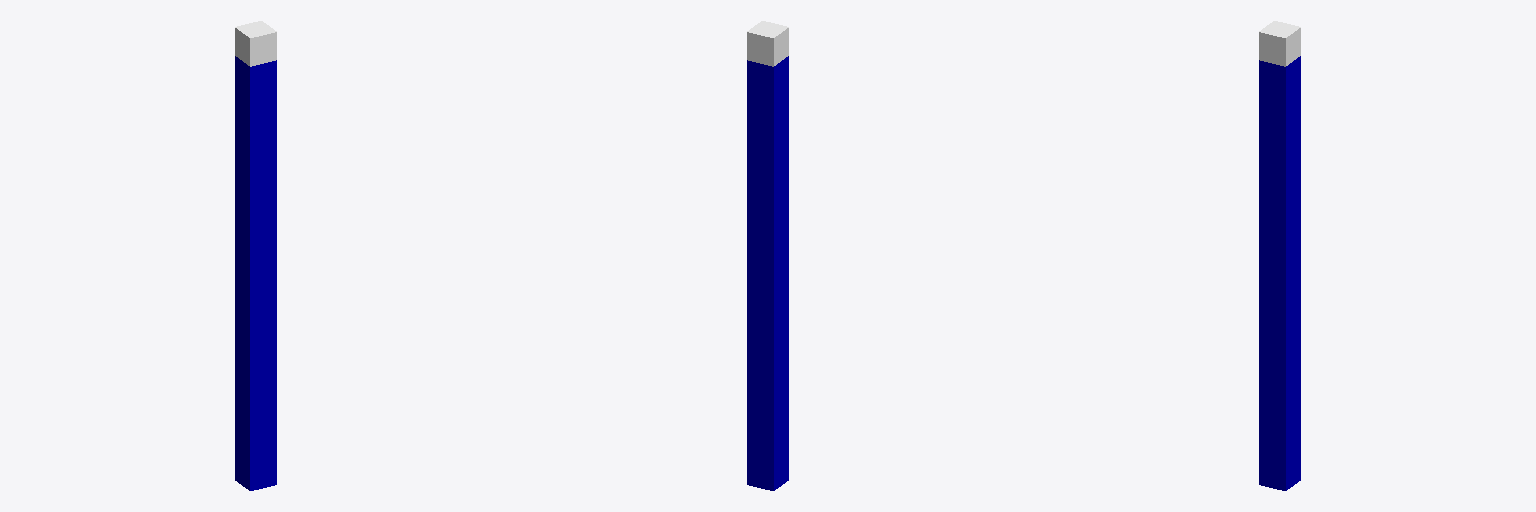
URDF robot description (pcl_ros_cluster_segmentation):
<?xml version="1.0" ?>
<!-- =================================================================================== -->
<!-- |    This document was autogenerated by xacro from obj_recognition.urdf.xacro     | -->
<!-- |    EDITING THIS FILE BY HAND IS NOT RECOMMENDED                                 | -->
<!-- =================================================================================== -->
<robot name="pcl_ros_cluster_segmentation" xmlns:xacro="http://www.ros.org/wiki/xacro">
  <!-- ros_control plugin -->
  <gazebo>
    <plugin filename="libgazebo_ros_control.so" name="gazebo_ros_control">
      <robotNamespace>/pcl_ros_cluster_segmentation</robotNamespace>
      <robotSimType>gazebo_ros_control/DefaultRobotHWSim</robotSimType>
    </plugin>
  </gazebo>
  <!--base_link-->
  <gazebo reference="base_link">
    <material>Gazebo/White</material>
  </gazebo>
  <!--link_1-->
  <gazebo reference="link_1">
    <mu1>0.2</mu1>
    <mu2>0.2</mu2>
    <material>Gazebo/Orange</material>
  </gazebo>
  <!--link_2-->
  <gazebo reference="link_2">
    <mu1>0.2</mu1>
    <mu2>0.2</mu2>
    <material>Gazebo/White</material>
  </gazebo>
  <!--camera_link-->
  <gazebo reference="camera_link">
    <mu1>0.2</mu1>
    <mu2>0.2</mu2>
    <material>Gazebo/Grey</material>
  </gazebo>
  <!--RGBD camera -->
  <gazebo reference="camera_rgb_frame">
    <sensor name="camera" type="depth">
      <always_on>true</always_on>
      <visualize>false</visualize>
      <update_rate>15.0</update_rate>
      <camera name="front">
        <horizontal_fov>1.047197</horizontal_fov>
        <image>
          <!-- openni_kinect plugin works only with BGR8 -->
          <format>B8G8R8</format>
          <width>640</width>
          <height>480</height>
        </image>
        <clip>
          <near>0.01</near>
          <far>9</far>
        </clip>
      </camera>
      <plugin filename="libgazebo_ros_openni_kinect.so" name="camera_controller">
        <baseline>0.1</baseline>
        <alwaysOn>true</alwaysOn>
        <updateRate>15.0</updateRate>
        <cameraName>camera</cameraName>
        <imageTopicName>/camera/rgb/image_raw</imageTopicName>
        <cameraInfoTopicName>/camera/rgb/camera_info</cameraInfoTopicName>
        <depthImageTopicName>/camera/depth_registered/image_raw</depthImageTopicName>
        <depthImageCameraInfoTopicName>/camera/depth_registered/camera_info</depthImageCameraInfoTopicName>
        <pointCloudTopicName>/camera/depth_registered/points</pointCloudTopicName>
        <frameName>camera_rgb_optical_frame</frameName>
        <pointCloudCutoff>0.35</pointCloudCutoff>
        <pointCloudCutoffMax>4.5</pointCloudCutoffMax>
        <CxPrime>0</CxPrime>
        <Cx>0</Cx>
        <Cy>0</Cy>
        <focalLength>0</focalLength>
        <hackBaseline>0</hackBaseline>
      </plugin>
    </sensor>
  </gazebo>
  <!--Links-->
  <link name="world"/>
  <link name="link_1">
    <visual>
      <origin rpy="0 0 0" xyz="0 0 0"/>
      <geometry>
        <box size="0.1 0.1 1.5"/>
      </geometry>
      <material name="blue">
        <color rgba="0.0 0.0 0.8 1.0"/>
      </material>
    </visual>
    <collision>
      <origin rpy="0 0 0" xyz="0 0 0"/>
      <geometry>
        <box size="0.1 0.1 1.5"/>
      </geometry>
    </collision>
    <inertial>
      <origin rpy="0 0 0" xyz="0 0 0"/>
      <mass value="10"/>
      <inertia ixx="1.88333333333" ixy="0.0" ixz="0.0" iyy="1.88333333333" iyz="0.0" izz="0.0166666666667"/>
    </inertial>
  </link>
  <link name="link_2">
    <visual>
      <origin rpy="0 0 0" xyz="0 0 0"/>
      <geometry>
        <box size="0.1 0.1 0.1"/>
      </geometry>
      <material name="white">
        <color rgba="1.0 1.0 1.0 1.0"/>
      </material>
    </visual>
    <collision>
      <origin rpy="0 0 0" xyz="0 0 0"/>
      <geometry>
        <box size="0.1 0.1 0.1"/>
      </geometry>
    </collision>
    <inertial>
      <origin rpy="0 0 0" xyz="0 0 0"/>
      <mass value="1"/>
      <inertia ixx="0.00166666666667" ixy="0.0" ixz="0.0" iyy="0.00166666666667" iyz="0.0" izz="0.00166666666667"/>
    </inertial>
  </link>
  <!-- RGBD camera -->
  <link name="camera_link">
    <collision>
      <origin rpy="0 0 0" xyz="-0.016 0 0"/>
      <geometry>
        <box size="0.036 0.18 0.04"/>
      </geometry>
    </collision>
    <visual>
      <origin rpy="0 0 0" xyz="0 0 0"/>
      <geometry>
        <mesh filename="[local-path]/manipulator_ws/src/pcl_ros_cluster_segmentation/meshes/asus_xtion.dae"/>
      </geometry>
    </visual>
    <inertial>
      <mass value="0.2"/>
      <origin rpy="0 0 0" xyz="0 0 0"/>
      <inertia ixx="5.8083e-4" ixy="0" ixz="0" iyy="3.0833e-5" iyz="0" izz="5.9083e-4"/>
    </inertial>
  </link>
  <!--Joints-->
  <joint name="fixed_base_joint" type="fixed">
    <parent link="world"/>
    <child link="link_1"/>
    <origin rpy="0 0 0" xyz="0 0 0.75"/>
  </joint>
  <joint name="pan_joint" type="continuous">
    <parent link="link_1"/>
    <child link="link_2"/>
    <axis xyz="0 0 1"/>
    <origin rpy="0 0 -1.57079632679" xyz="0 0 0.8"/>
  </joint>
  <joint name="tilt_joint" type="continuous">
    <origin rpy="0 0.5 0" xyz="0.05 0 0.07"/>
    <parent link="link_2"/>
    <child link="camera_link"/>
    <axis xyz="0 1 0"/>
  </joint>
  <link name="camera_rgb_frame"/>
  <joint name="camera_rgb_joint" type="fixed">
    <origin rpy="0 0 0" xyz="0 0.022 0"/>
    <parent link="camera_link"/>
    <child link="camera_rgb_frame"/>
  </joint>
  <link name="camera_rgb_optical_frame"/>
  <joint name="camera_rgb_optical_joint" type="fixed">
    <origin rpy="-1.57079632679 0 -1.57079632679" xyz="0 0 0"/>
    <parent link="camera_rgb_frame"/>
    <child link="camera_rgb_optical_frame"/>
  </joint>
  <link name="camera_depth_frame"/>
  <joint name="camera_depth_joint" type="fixed">
    <origin rpy="0 0 0" xyz="0 0.049 0"/>
    <parent link="camera_link"/>
    <child link="camera_depth_frame"/>
  </joint>
  <link name="camera_depth_optical_frame"/>
  <joint name="camera_depth_optical_joint" type="fixed">
    <origin rpy="-1.57079632679 0 -1.57079632679" xyz="0 0 0"/>
    <parent link="camera_depth_frame"/>
    <child link="camera_depth_optical_frame"/>
  </joint>
  <!--Transmission and actuators-->
  <transmission name="tran1">
    <type>transmission_interface/SimpleTransmission</type>
    <joint name="pan_joint">
      <hardwareInterface>hardware_interface/PositionJointInterface</hardwareInterface>
    </joint>
    <actuator name="motor1">
      <hardwareInterface>hardware_interface/PositionJointInterface</hardwareInterface>
      <mechanicalReduction>1</mechanicalReduction>
    </actuator>
  </transmission>
  <transmission name="tran2">
    <type>transmission_interface/SimpleTransmission</type>
    <joint name="tilt_joint">
      <hardwareInterface>hardware_interface/PositionJointInterface</hardwareInterface>
    </joint>
    <actuator name="motor2">
      <hardwareInterface>hardware_interface/PositionJointInterface</hardwareInterface>
      <mechanicalReduction>1</mechanicalReduction>
    </actuator>
  </transmission>
</robot>

--- Facts derived from the render (not from the file) ---
Views: 3 orthographic renders of the robot side by side, from view 1: azimuth 30°, elevation 25°; view 2: azimuth 150°, elevation 25°; view 3: azimuth 330°, elevation 25°.
Robot: pcl_ros_cluster_segmentation — 8 links, 7 joints (2 continuous, 5 fixed); root link world; default pose: all joints at 0.
Links seen in each view (by area): view 1: link_1, link_2; view 2: link_1, link_2; view 3: link_1, link_2.
Boxes of the visible links, box(x1,y1,x2,y2) form: link_1: box(235, 56, 276, 490); link_2: box(235, 21, 276, 66); link_1: box(747, 56, 788, 490); link_2: box(747, 21, 788, 66); link_1: box(1259, 56, 1300, 490); link_2: box(1259, 21, 1300, 66).
Size in the robot's own frame: 0.1 by 0.1 by 1.6 metres.
Geometry: only primitive shapes (box / cylinder / sphere) drawn; not drawn: 1 mesh visual (reference in a form the renderer does not follow).
